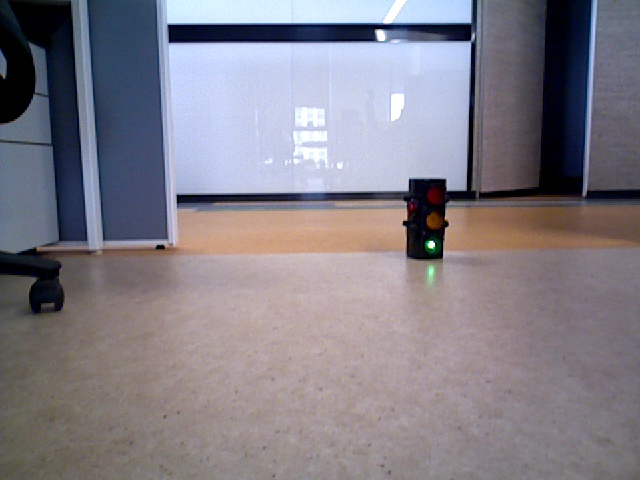green: (407, 181, 444, 258)
